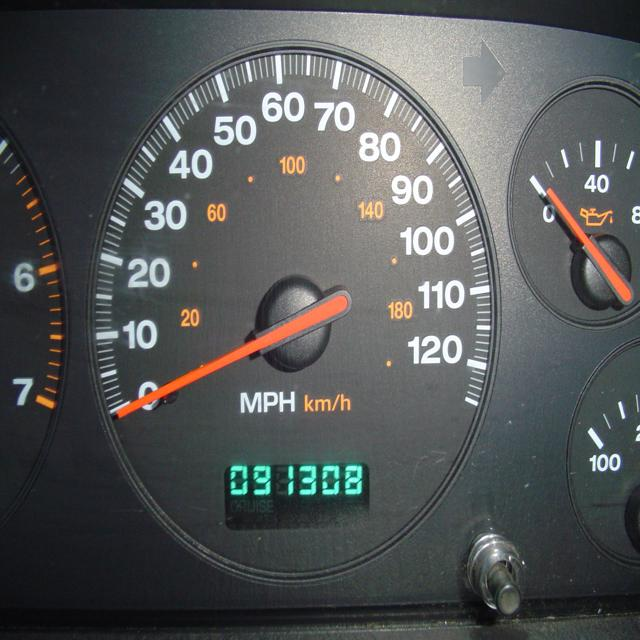odometer: (224, 460, 367, 499)
